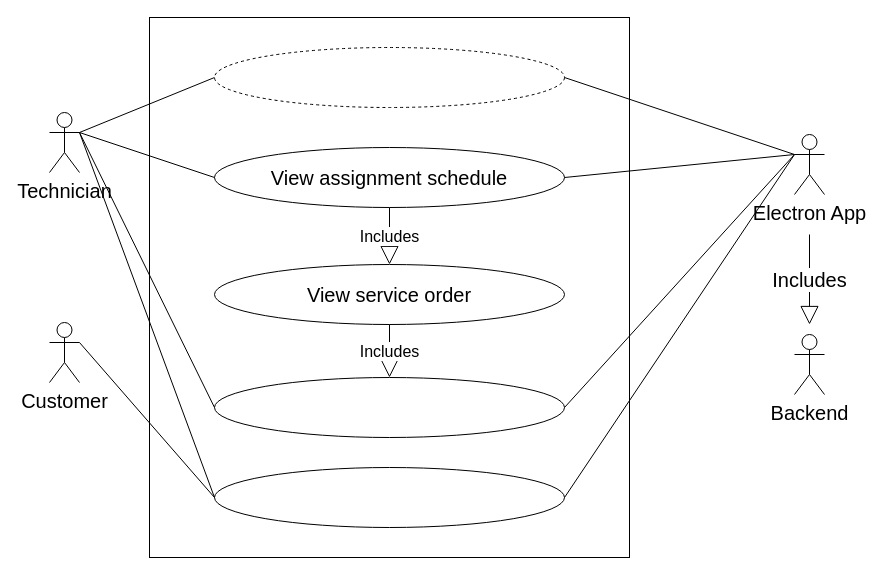
This 883x575 diagram has some shape labels left out. Each missing label, with the centre of its shape:
"Completion/Confirmation - Signature" goes at [389,497].
"Review/Order parts" goes at [389,407].
"View repair manual (offline)" goes at [389,77].
